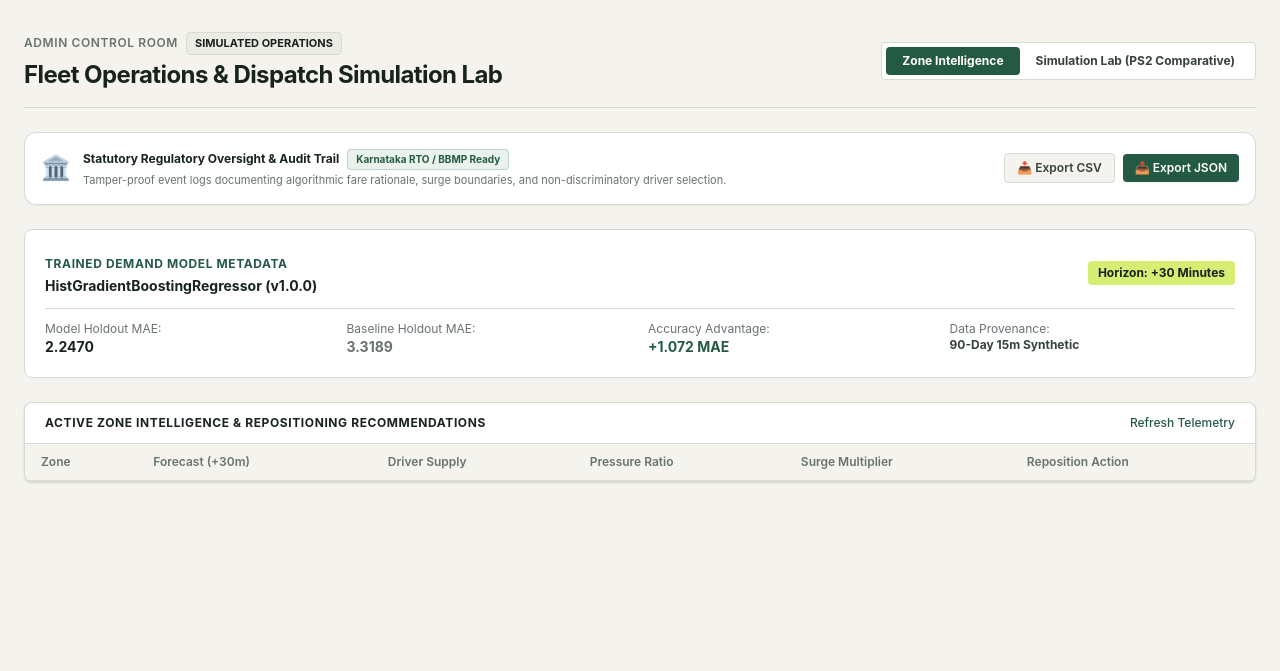
Test: AdminControlCenter DOM & Integration Tests › switches to Simulation Lab tab and executes deterministic simulation run
The width and height of the screenshot is (1280, 671).
Switch tab
Click the button "Simulation Lab (PS2 Comparative)" at coordinates (1135, 61), box left=1020, top=47, right=1251, bottom=75
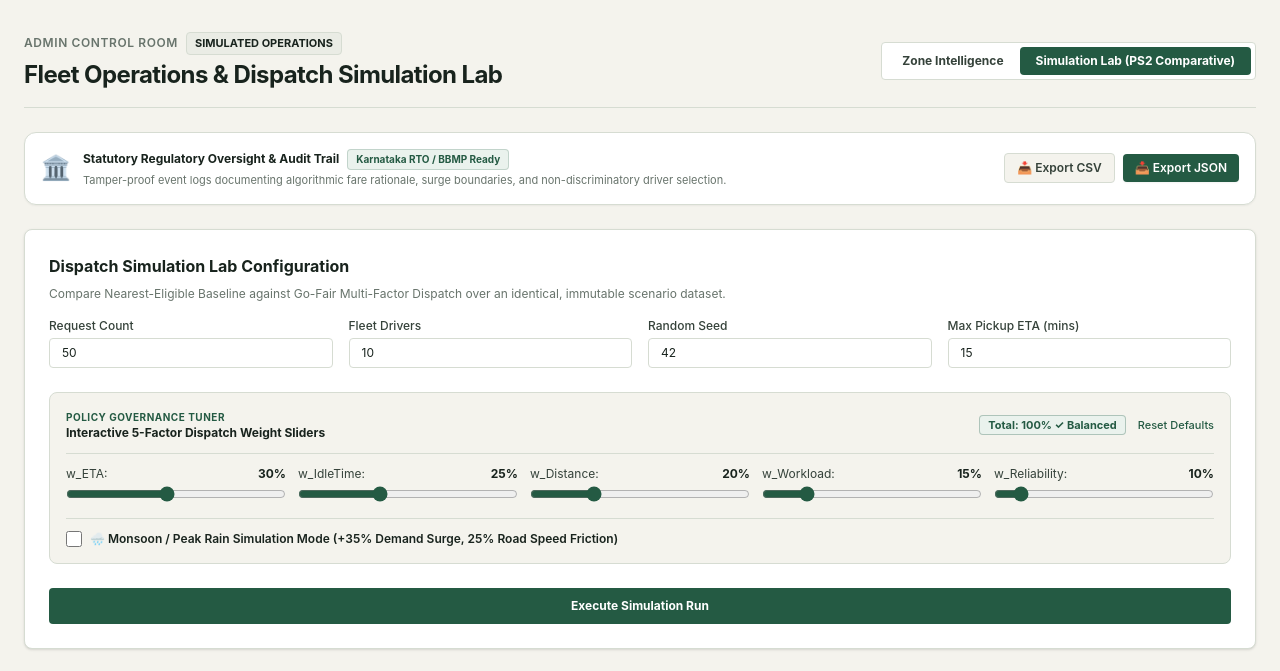
Check: the heading "Dispatch Simulation Lab Configuration" is shown, box left=49, top=256, right=349, bottom=276
Check: the text "Policy Governance Tuner" is shown, box left=66, top=411, right=225, bottom=423
Check: the heading "Interactive 5-Factor Dispatch Weight Sliders" is shown, box left=66, top=425, right=325, bottom=441
Submit simulation form
Click the button "Execute Simulation Run" at coordinates (640, 606), box left=49, top=588, right=1231, bottom=624
(page scrolled)
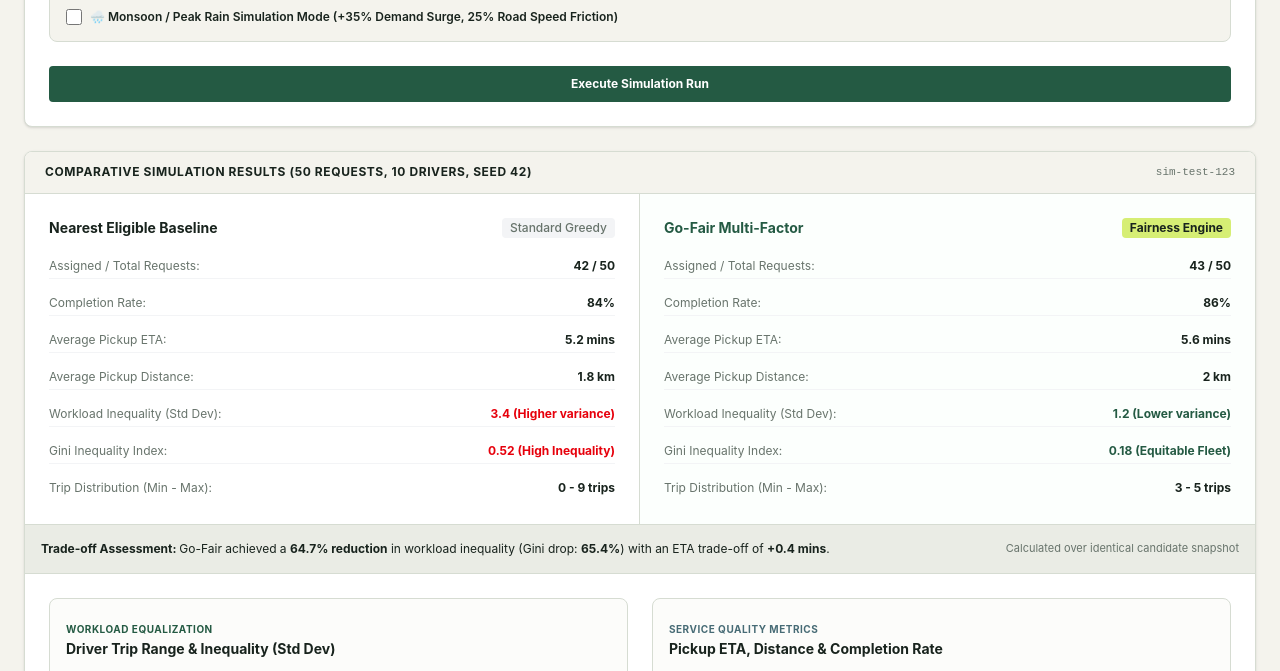
Check: the heading "Nearest Eligible Baseline" is shown, box left=49, top=218, right=218, bottom=238
Check: the heading "Go-Fair Multi-Factor" is shown, box left=664, top=218, right=803, bottom=238
Check: the text "Trade-off Assessment:" is shown, box left=41, top=540, right=179, bottom=556
